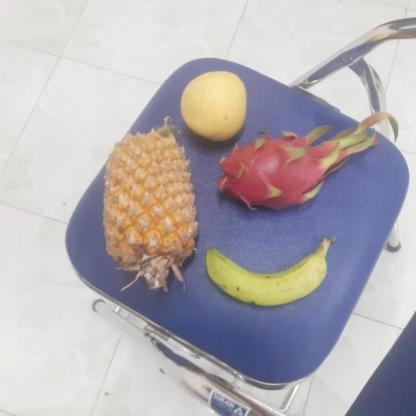banana: (208, 238, 334, 307)
pear: (177, 72, 251, 140)
pineapple: (105, 130, 204, 270)
pitaya: (217, 131, 347, 213)
